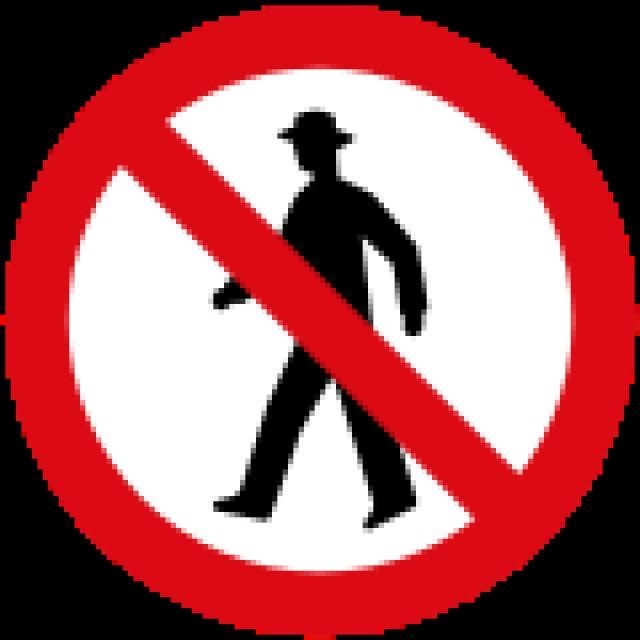No entry for pedestrians: (0, 5, 640, 640)
